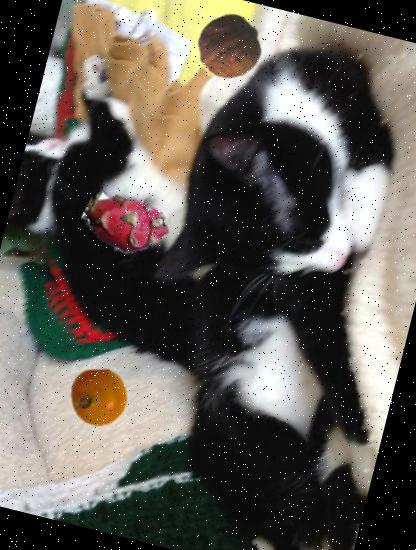Physalis: (64, 363, 134, 432)
Pitahaya: (74, 172, 179, 276)
Walnut: (190, 8, 270, 88)
